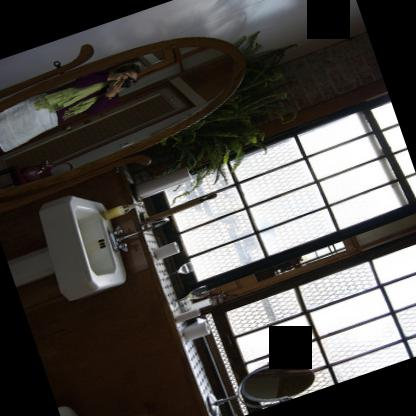handbag: (22, 162, 75, 182)
